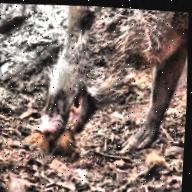boar: (4, 1, 192, 169)
